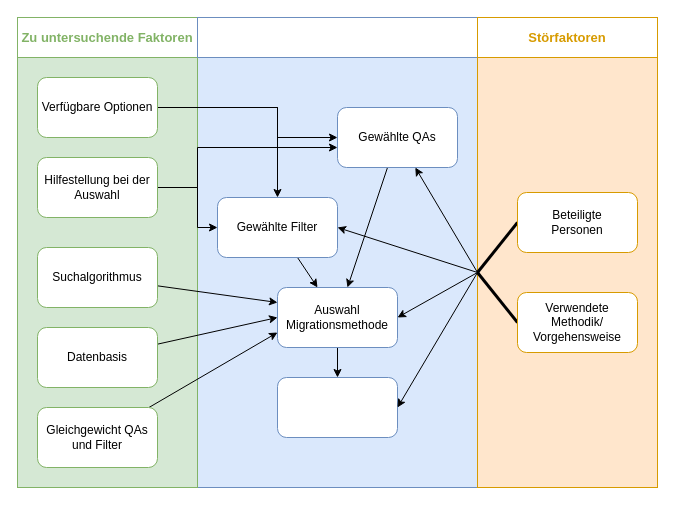
Some shapes in this 675 by 505 pixel diagram are drawn without their labels. The shapes that lost their labels are listed below. From the top down, each one's centre as x and y in pixels, then its label:
At (337,37): "Durchgeführte Schritte".
At (337,407): "Anwendung Migrationsmethode".
